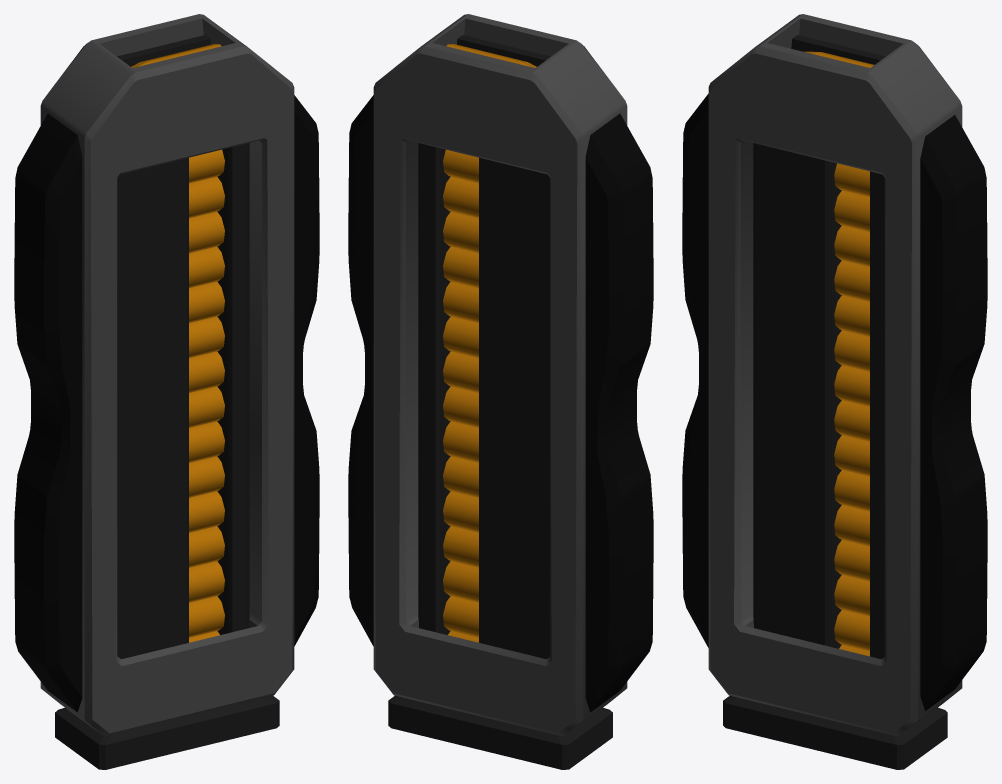
The model's file is Magazine_02.FBX.
3 renders of one model, left to right at view 1: azimuth 30°, elevation 25°; view 2: azimuth 150°, elevation 25°; view 3: azimuth 330°, elevation 25°, orthographic.
Visible parts, largest first — view 1: Magazine_Body, Magazine, Box002, Box003, Cylinder011, Cylinder007, Cylinder012, Cylinder015, Cylinder016, Cylinder006, Cylinder008, Cylinder010 (+6 smaller); view 2: Magazine_Body, Magazine, Box002, Box003, Cylinder011, Cylinder007, Cylinder012, Cylinder015, Cylinder016, Cylinder006, Cylinder008, Cylinder010 (+6 smaller); view 3: Magazine_Body, Magazine, Box003, Box002, Cylinder006, Cylinder010, Cylinder005, Cylinder007, Cylinder009, Cylinder011, Cylinder014, Cylinder015 (+6 smaller).
Boxes of the visible parts, bbox=[...] form: Magazine_Body: bbox=[40, 14, 294, 736]; Magazine: bbox=[55, 35, 279, 769]; Box002: bbox=[14, 113, 82, 712]; Box003: bbox=[294, 95, 319, 646]; Cylinder011: bbox=[189, 421, 224, 462]; Cylinder007: bbox=[189, 281, 224, 322]; Cylinder012: bbox=[189, 456, 224, 497]; Cylinder015: bbox=[189, 561, 224, 602]; Cylinder016: bbox=[189, 596, 224, 637]; Cylinder006: bbox=[189, 246, 224, 288]; Cylinder008: bbox=[189, 316, 224, 357]; Cylinder010: bbox=[189, 386, 224, 427]; Magazine_Body: bbox=[373, 14, 627, 736]; Magazine: bbox=[388, 35, 612, 769]; Box002: bbox=[585, 113, 653, 712]; Box003: bbox=[348, 95, 373, 646]; Cylinder011: bbox=[443, 421, 478, 462]; Cylinder007: bbox=[443, 281, 478, 322]; Cylinder012: bbox=[443, 456, 478, 497]; Cylinder015: bbox=[443, 561, 478, 602]; Cylinder016: bbox=[443, 596, 478, 637]; Cylinder006: bbox=[443, 246, 478, 288]; Cylinder008: bbox=[443, 316, 478, 357]; Cylinder010: bbox=[443, 386, 478, 427]; Magazine_Body: bbox=[708, 14, 962, 736]; Magazine: bbox=[723, 35, 947, 769]; Box003: bbox=[920, 115, 987, 710]; Box002: bbox=[682, 93, 708, 647]; Cylinder006: bbox=[834, 260, 869, 301]; Cylinder010: bbox=[834, 400, 869, 441]; Cylinder005: bbox=[834, 225, 869, 266]; Cylinder007: bbox=[834, 295, 869, 336]; Cylinder009: bbox=[834, 365, 869, 406]; Cylinder011: bbox=[834, 435, 869, 476]; Cylinder014: bbox=[834, 540, 869, 581]; Cylinder015: bbox=[834, 575, 869, 616].
Size of the model in its own units: 6.27 by 14.96 by 1.97.
